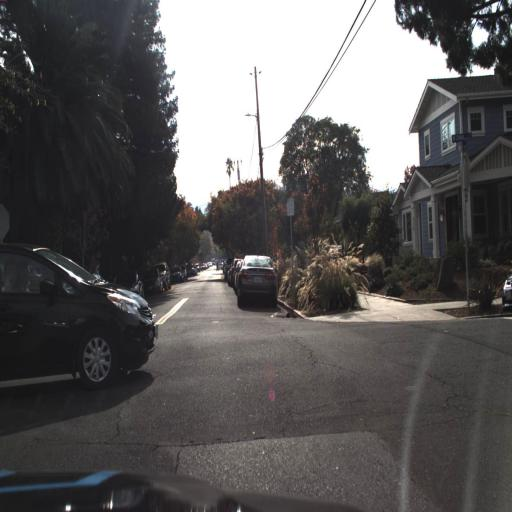car: (0, 246, 158, 385), (499, 266, 512, 320)
